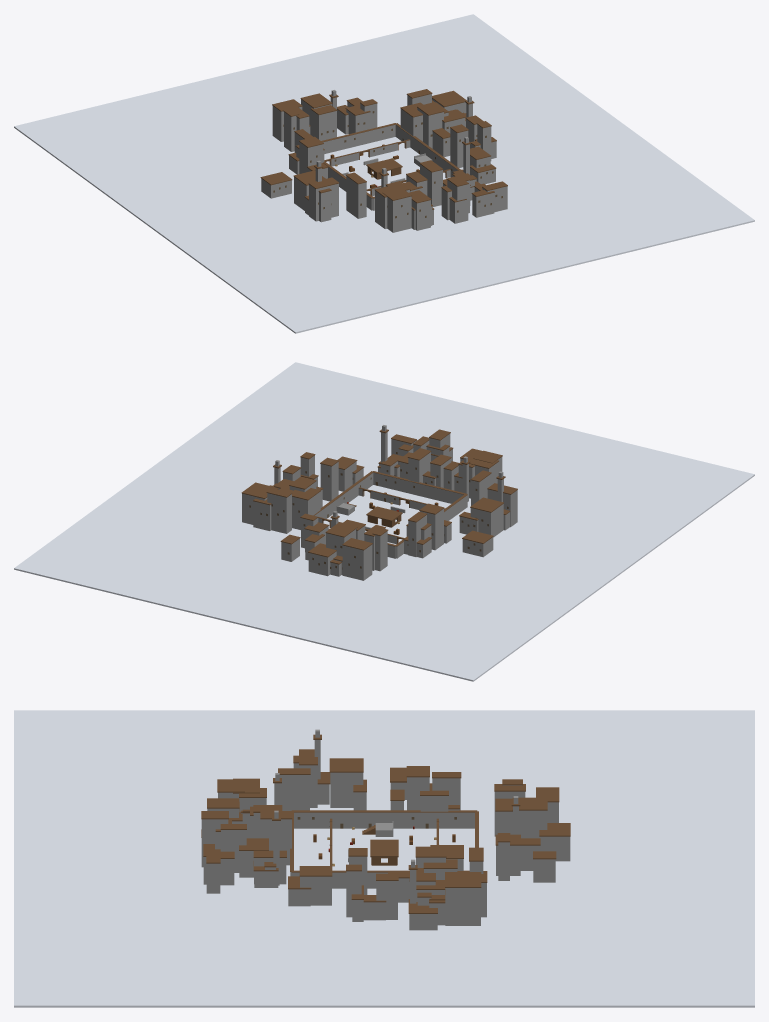
Rendered from fy_snow.glb.
The picture shows the model from 3 angles, top to bottom: view 1: azimuth 30°, elevation 25°; view 2: azimuth 150°, elevation 25°; view 3: azimuth 270°, elevation 25°; orthographic projection. The views are drawn at different scales.
Parts seen in each view (by area): view 1: skyline, fy_snow; view 2: skyline, fy_snow; view 3: skyline, fy_snow.
Part boxes in pixels (<box>): skyline: <box>14,14,754,333</box>; fy_snow: <box>321,123,460,210</box>; skyline: <box>14,362,754,681</box>; fy_snow: <box>313,471,467,558</box>; skyline: <box>14,710,754,1007</box>; fy_snow: <box>290,810,478,888</box>.
Bounding box in the file's own units: 12560 × 1511 × 13328.
